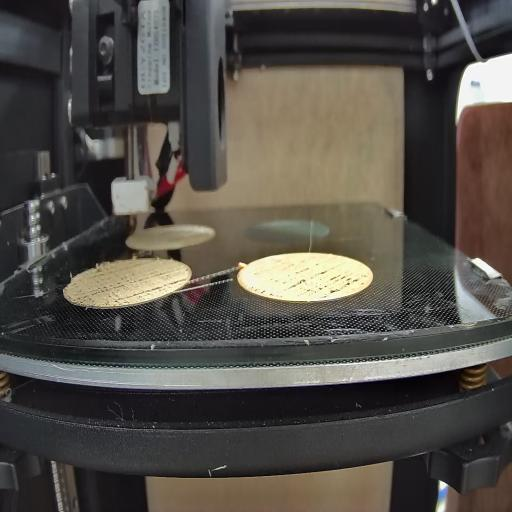under_extrusion: (79, 262, 189, 303), (252, 266, 370, 296)
